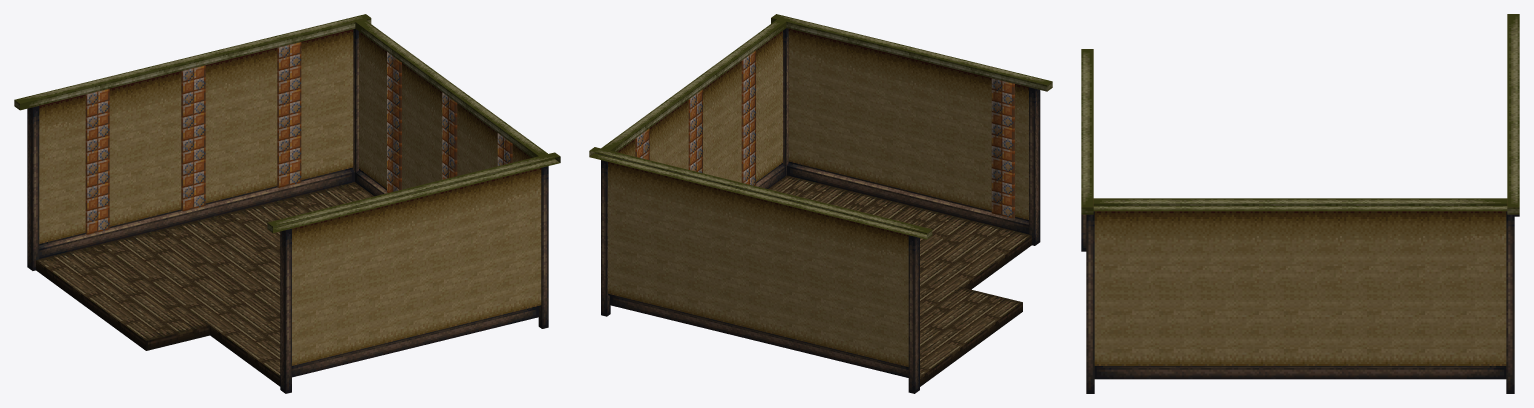
Rendered from EnvBdgMD_Sea_A_Indoor_House_C.FBX.
3 views of the same model, side by side, from view 1: azimuth 30°, elevation 25°; view 2: azimuth 150°, elevation 25°; view 3: azimuth 270°, elevation 25° (orthographic). The views are drawn at different scales.
Parts seen in each view (by area): view 1: EnvBdgMD_Sea_A_Indoor_House_C; view 2: EnvBdgMD_Sea_A_Indoor_House_C; view 3: EnvBdgMD_Sea_A_Indoor_House_C.
Part boxes in pixels (x1,y1,x2,y2): EnvBdgMD_Sea_A_Indoor_House_C: [14, 14, 560, 393]; EnvBdgMD_Sea_A_Indoor_House_C: [589, 14, 1052, 393]; EnvBdgMD_Sea_A_Indoor_House_C: [1081, 14, 1519, 393].
Bounding box in the file's own units: 1100 × 510 × 1055.
Materials: 1 (1 with a texture image).
